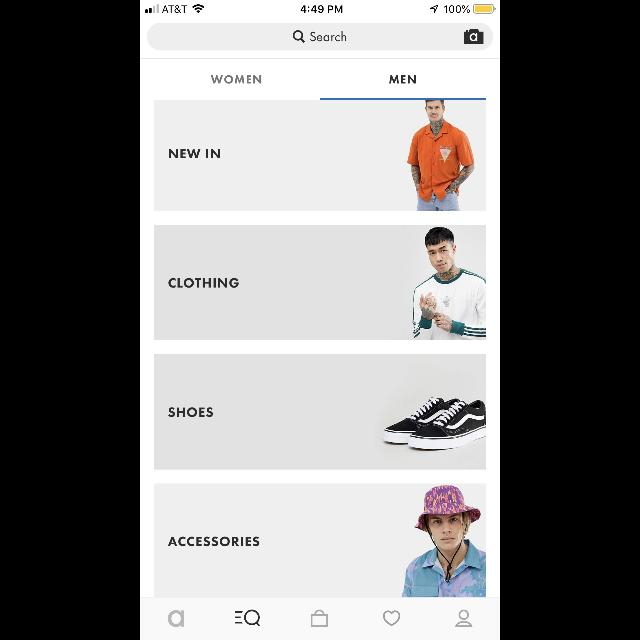icon: (236, 610, 260, 626), (384, 610, 401, 626), (312, 610, 328, 626), (456, 610, 472, 626), (293, 31, 305, 43)
image: (400, 485, 486, 597), (412, 226, 486, 340), (407, 100, 475, 212), (382, 395, 486, 451), (464, 30, 484, 44)
input: (147, 23, 493, 51)
text: (168, 537, 260, 547), (169, 278, 239, 288), (168, 407, 214, 417), (170, 150, 220, 158), (211, 76, 261, 84), (310, 32, 346, 42), (168, 610, 185, 628), (389, 76, 415, 84)
uppertaskbar: (140, 0, 500, 14)
